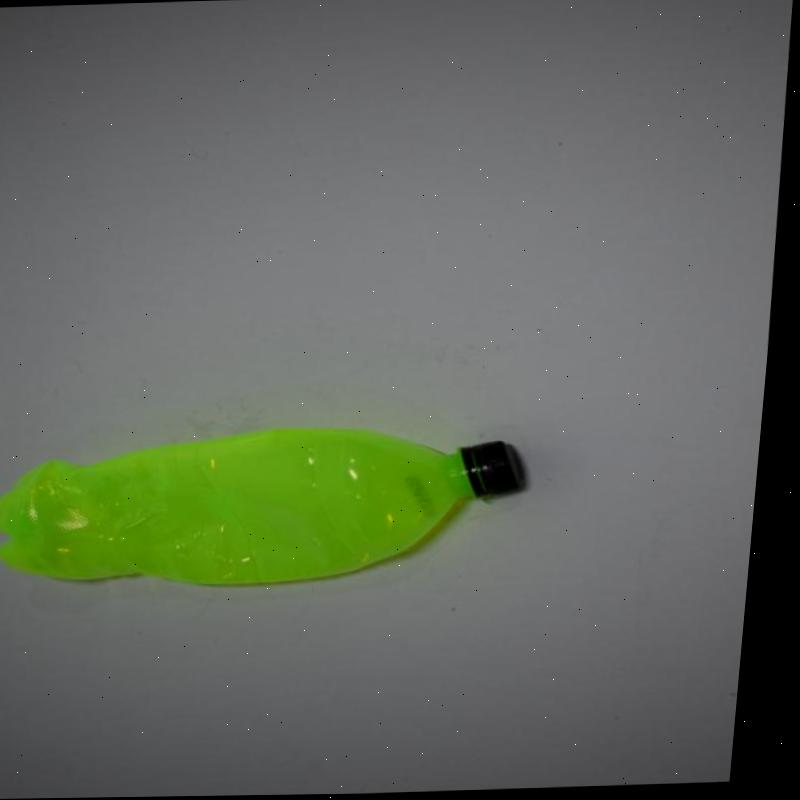botella: (0, 428, 541, 597)
